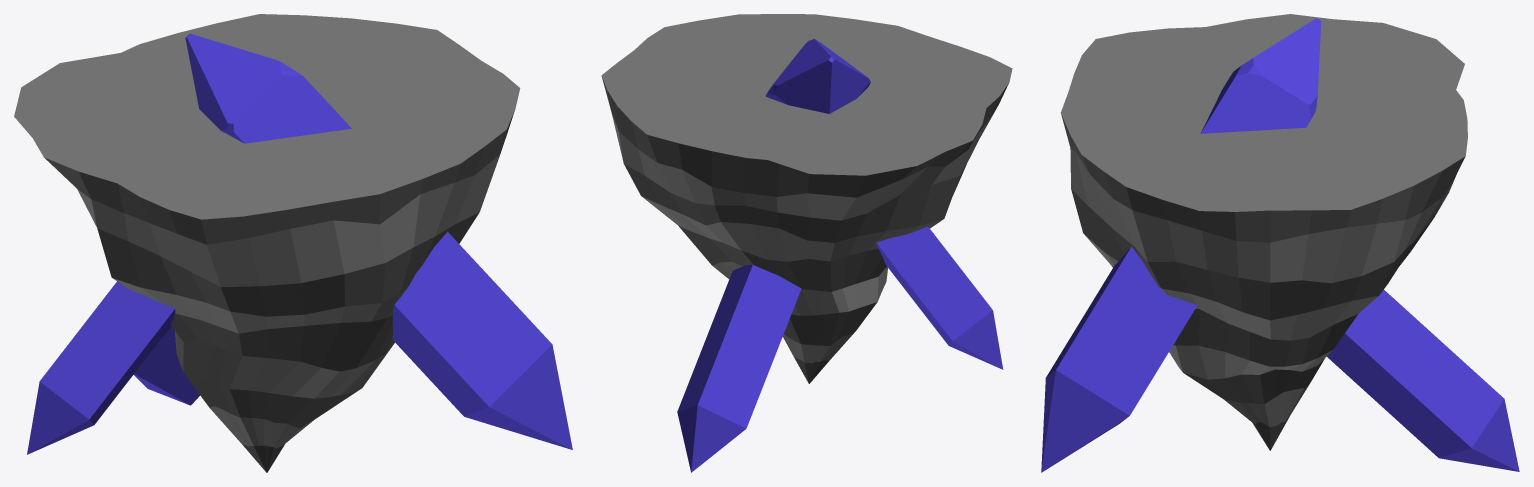
Rendered from island_nonplayable1.fbx.
3 views of the same model, side by side, from view 1: azimuth 30°, elevation 25°; view 2: azimuth 150°, elevation 25°; view 3: azimuth 270°, elevation 25° (orthographic). The views are drawn at different scales.
Parts seen in each view (by area): view 1: island_nonplayable1_rocks, island_nonplayable1_crystals; view 2: island_nonplayable1_rocks, island_nonplayable1_crystals; view 3: island_nonplayable1_rocks, island_nonplayable1_crystals.
Part boxes in pixels (left/top/right/bottom): island_nonplayable1_rocks: left=14, top=14, right=520, bottom=472; island_nonplayable1_crystals: left=27, top=34, right=572, bottom=454; island_nonplayable1_rocks: left=601, top=14, right=1012, bottom=383; island_nonplayable1_crystals: left=677, top=39, right=1003, bottom=472; island_nonplayable1_rocks: left=1060, top=14, right=1467, bottom=450; island_nonplayable1_crystals: left=1041, top=18, right=1519, bottom=472.
Bounding box in the file's own units: 6643 × 6242 × 6380.
